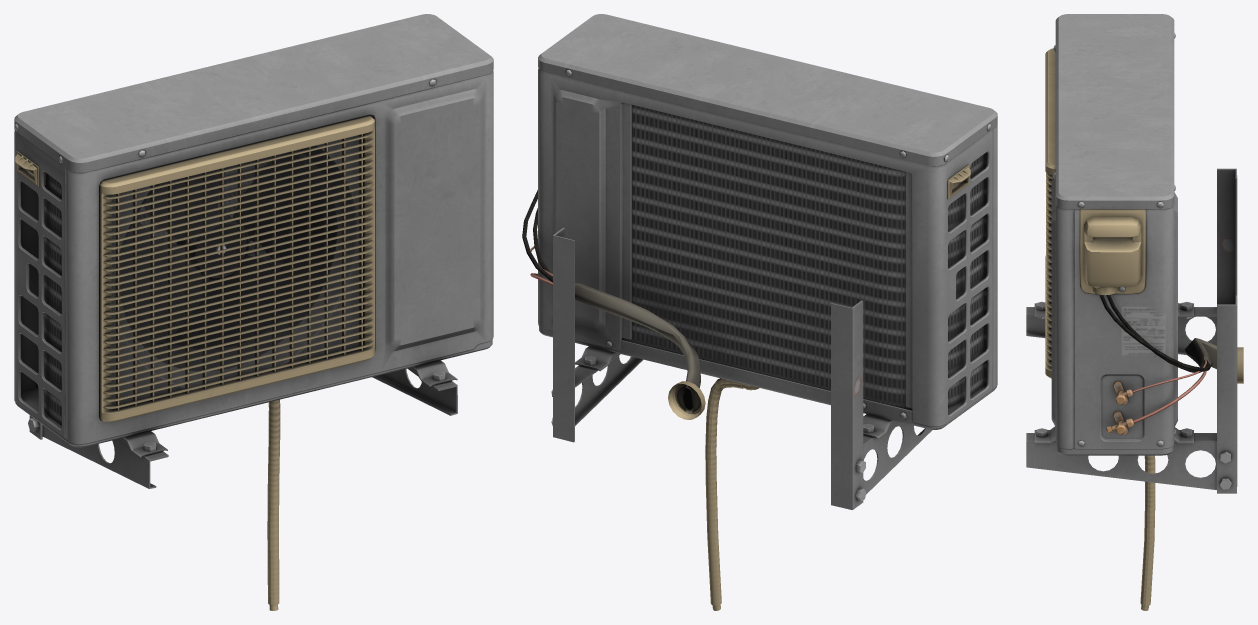
The model's file is exterior_aircon_unit.fbx.
3 renders of one model, left to right at view 1: azimuth 30°, elevation 25°; view 2: azimuth 150°, elevation 25°; view 3: azimuth 270°, elevation 25°, orthographic. The views are drawn at different scales.
Parts seen in each view (by area): view 1: exterior_aircon_unit; view 2: exterior_aircon_unit; view 3: exterior_aircon_unit.
Boxes of the visible parts, left/top/right/bottom form: exterior_aircon_unit: left=14, top=14, right=493, bottom=610; exterior_aircon_unit: left=522, top=14, right=997, bottom=610; exterior_aircon_unit: left=1026, top=14, right=1243, bottom=610.
Size of the model in its own units: 31.49 by 14.73 by 36.53.
